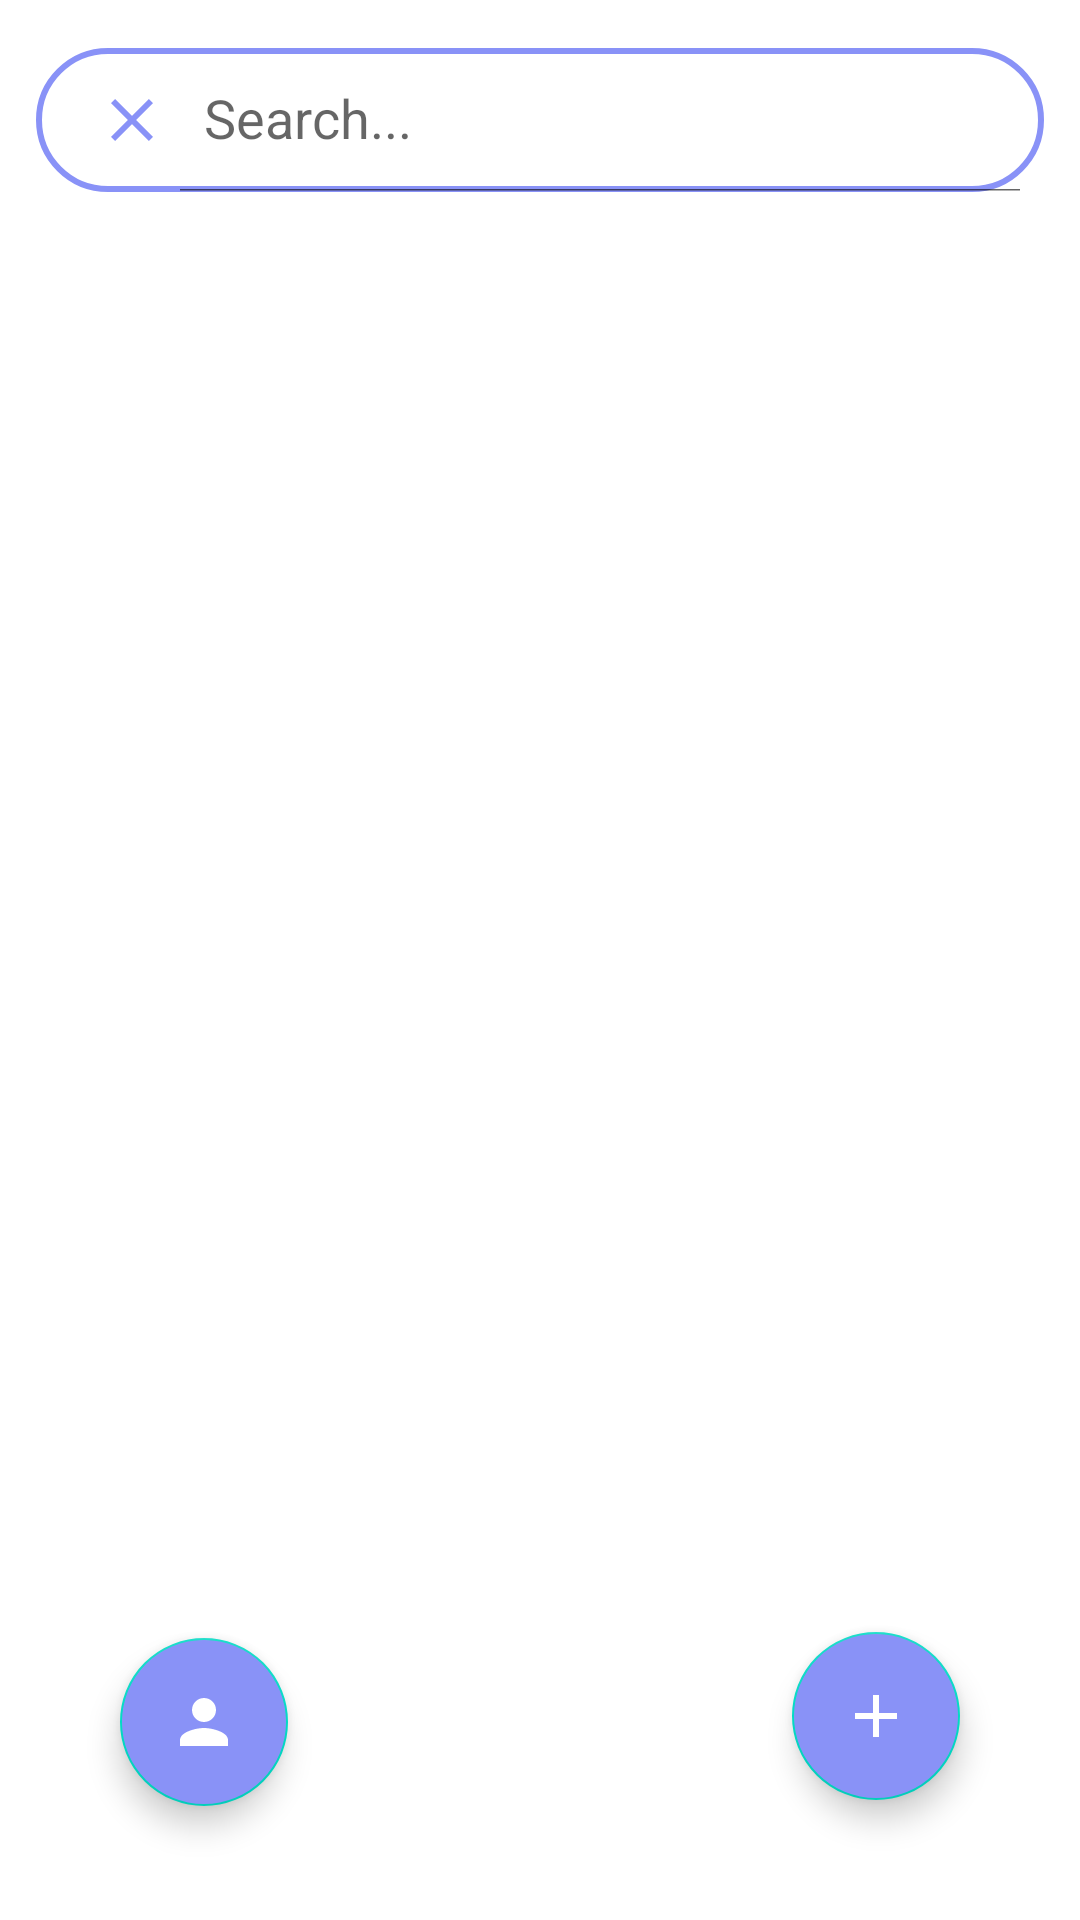

Icon bounding boxes for this 1080px×1920px phone screenshot, format rect(x1, y1, x2, y2):
add: rect(792, 1632, 960, 1800)
person: rect(120, 1638, 288, 1806)
